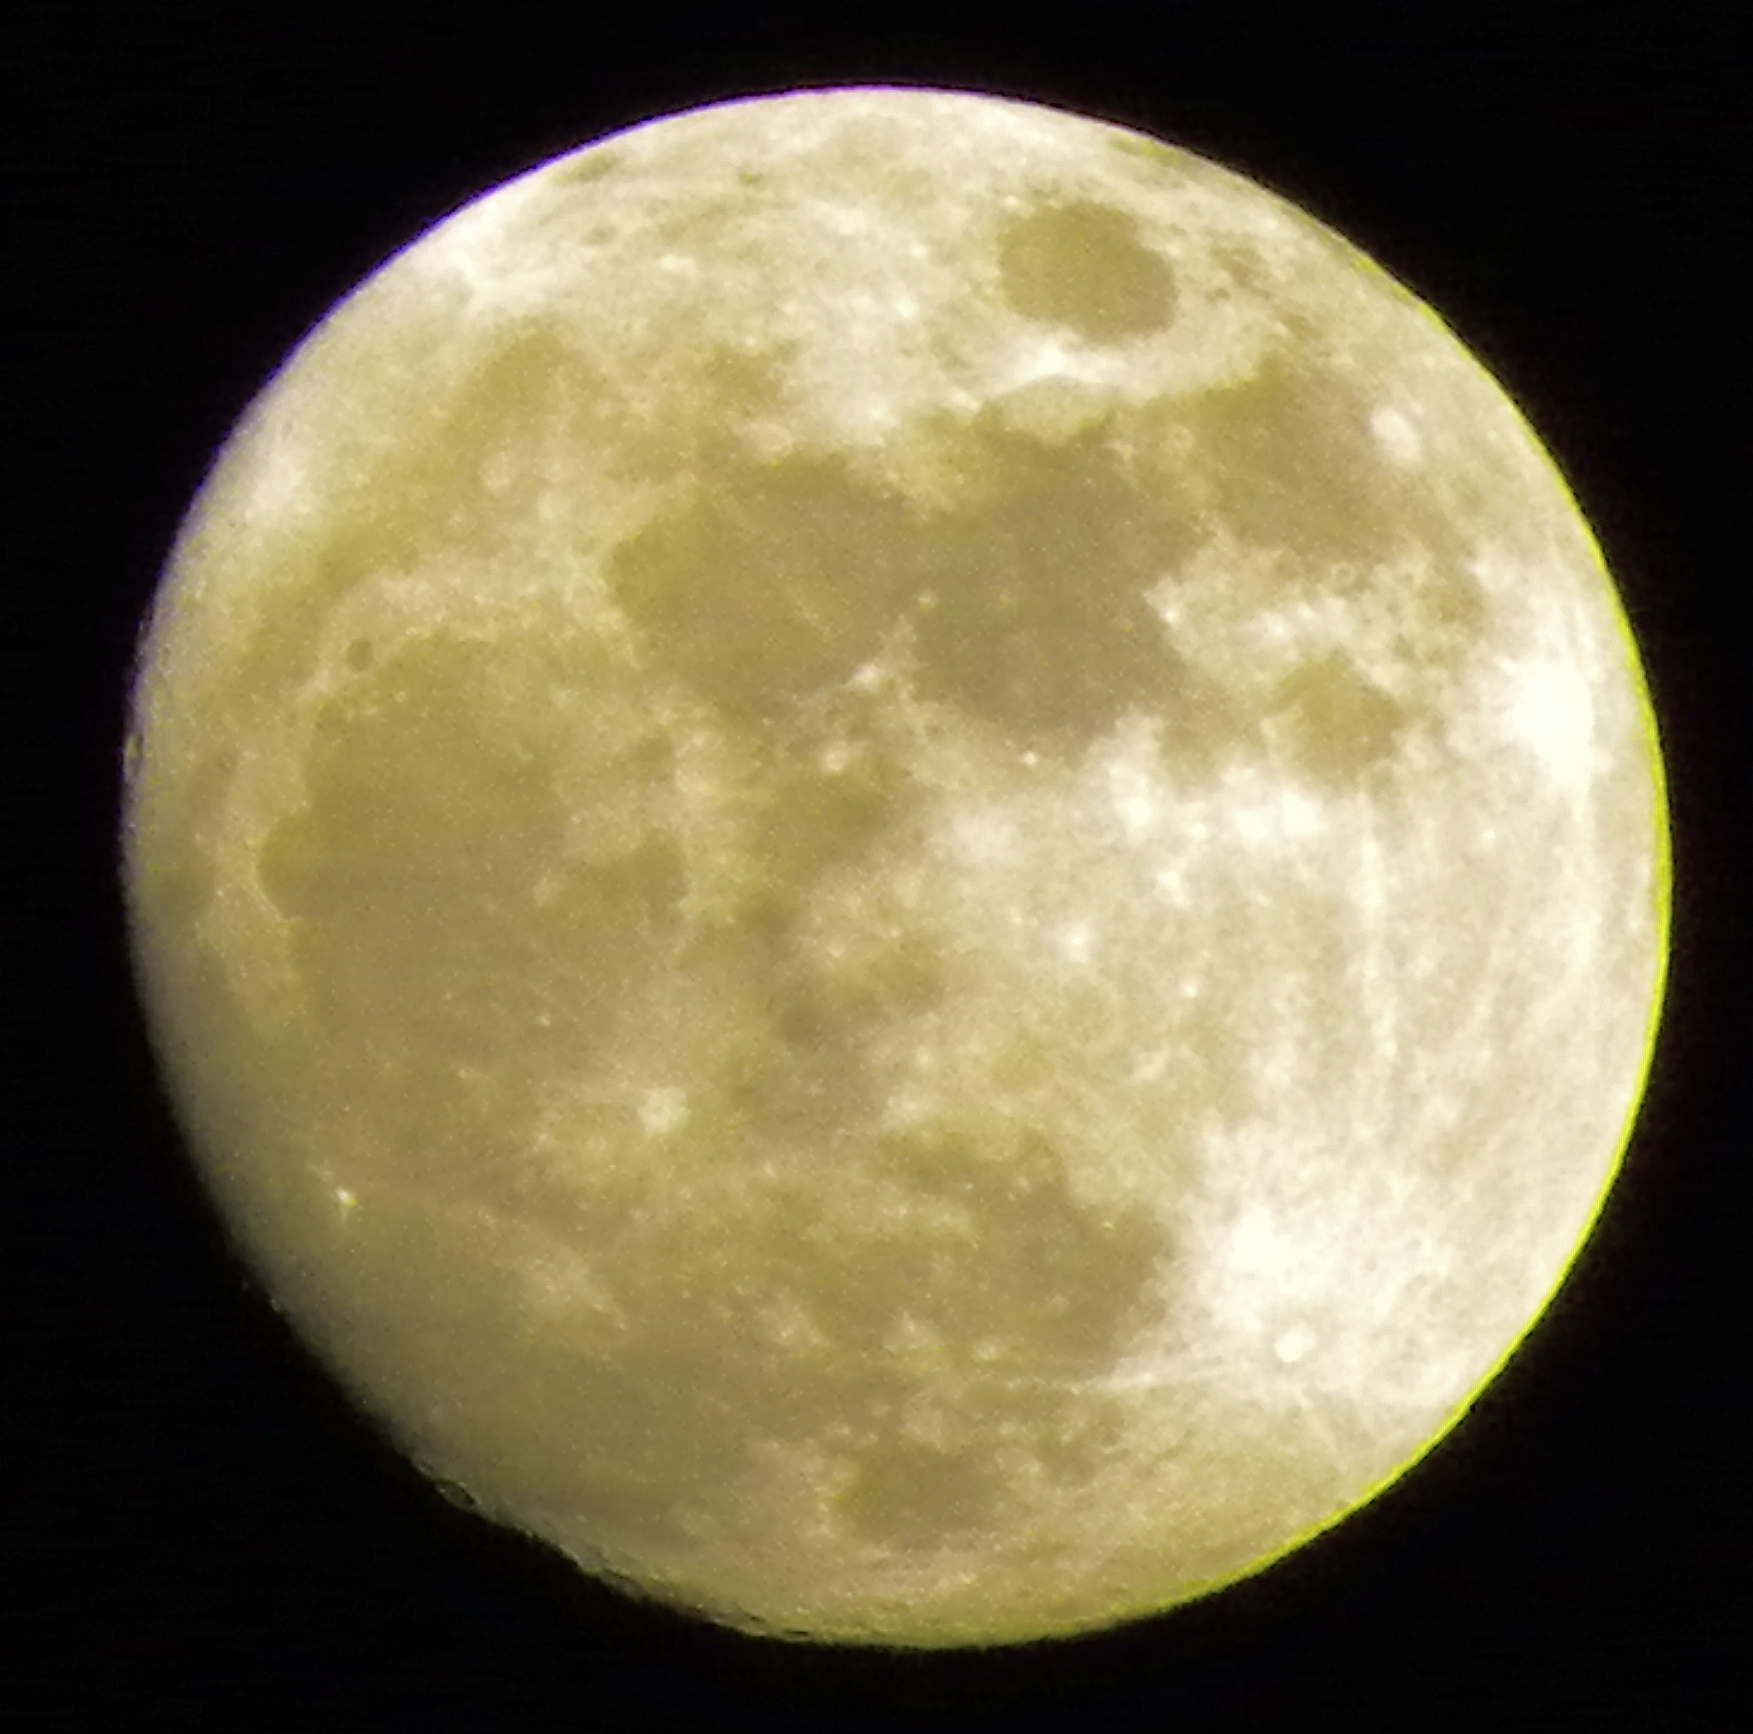crater: (1154, 1150, 1415, 1450), (934, 165, 1218, 375), (586, 1024, 753, 1193), (1324, 360, 1443, 507), (306, 608, 406, 696), (306, 1161, 403, 1245), (430, 1443, 537, 1520), (564, 208, 657, 272), (807, 729, 873, 797), (738, 1131, 796, 1204), (1146, 576, 1192, 642), (911, 561, 953, 622)
